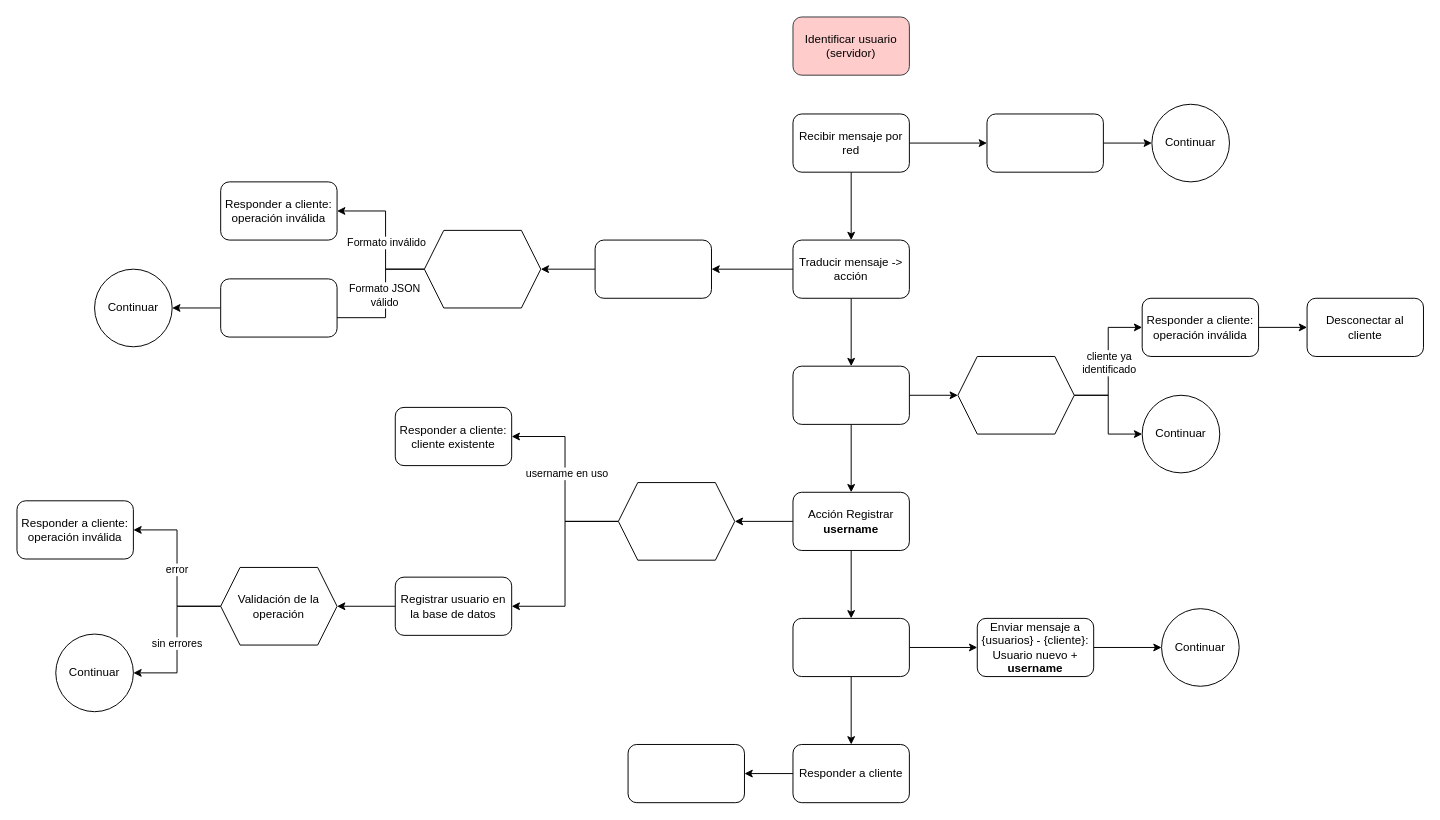
This 1440x820 diagram has some shape labels left out. The centre of each missing label's shape, as x and y in pixels:
"Extraer bytes del mensaje" goes at pixel 1044 142.
"Notificar a usuarios" goes at pixel 850 647.
"Responder a cliente: operación válida" goes at pixel 685 773.
"Traducir bytes a cadena" goes at pixel 652 268.
"Traducir JSON a acción: Identificar usuario con username" goes at pixel 278 307.
"Validación de cadena" goes at pixel 482 268.
"Validación de username" goes at pixel 676 521.
"Validar el cliente" goes at pixel 1015 395.
"Validar operación" goes at pixel 850 394.
